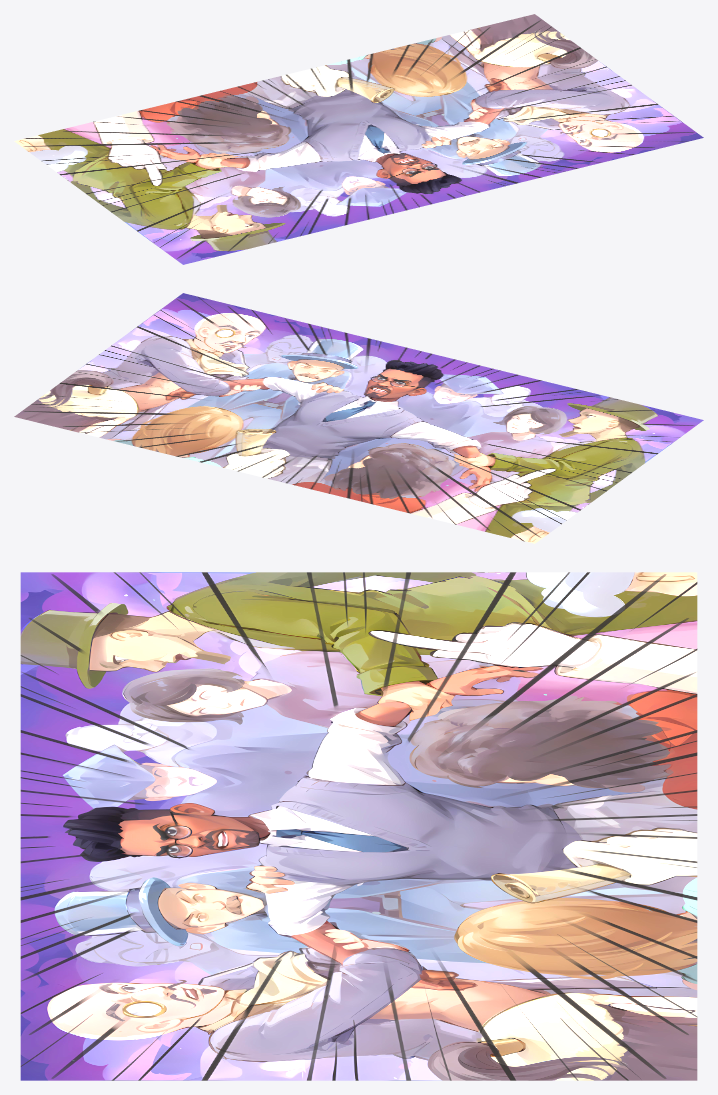
The model's file is cs_crowd.glb.
3 views of the same model, one above another, from view 1: azimuth 30°, elevation 25°; view 2: azimuth 150°, elevation 25°; view 3: azimuth 270°, elevation 25° (orthographic). The views are drawn at different scales.
Visible parts, largest first — view 1: 01; view 2: 01; view 3: 01.
Part boxes in pixels (x1,y1,x2,y2): 01: (14, 14, 703, 264); 01: (14, 293, 703, 543); 01: (20, 572, 697, 1080).
Size of the model in its own units: 38.4 by 0 by 21.6.
Materials: 16 (16 with a texture image).
